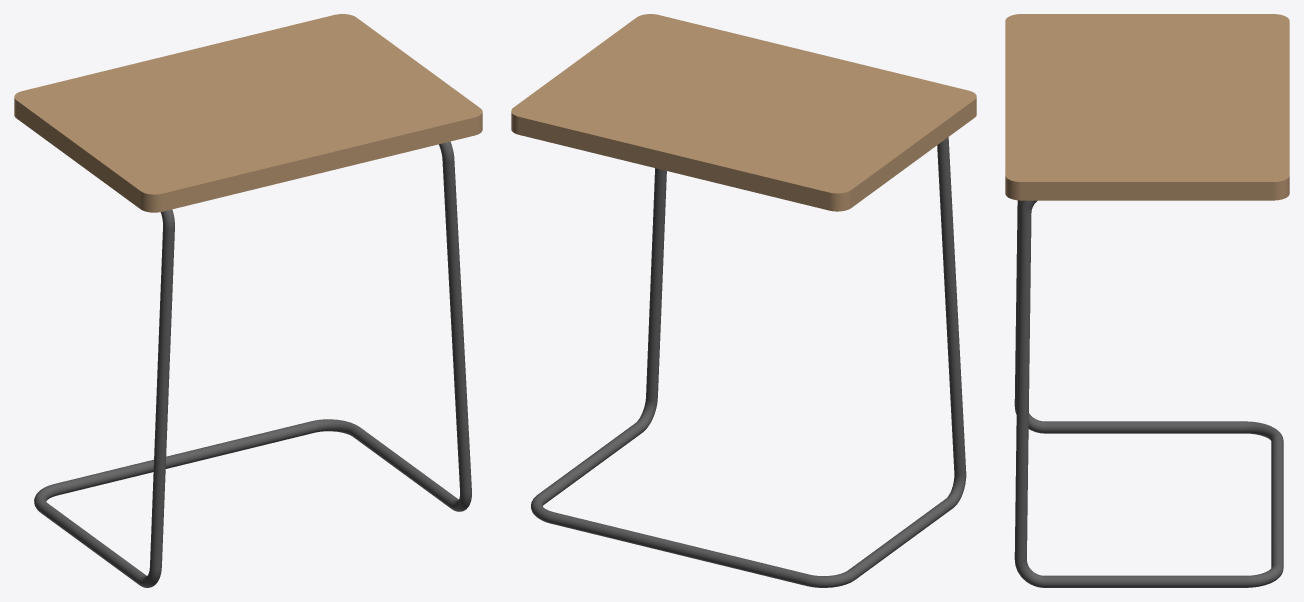
Rendered from 491_サイドテーブル.glb.
The picture shows the model from 3 angles, left to right: view 1: azimuth 30°, elevation 25°; view 2: azimuth 150°, elevation 25°; view 3: azimuth 270°, elevation 25°; orthographic projection.
Visible parts, largest first — view 1: Body; view 2: Body; view 3: Body.
Part boxes in pixels (box(x1,y1,x2,y2)): Body: box(14, 14, 482, 587); Body: box(511, 14, 976, 587); Body: box(1005, 14, 1289, 587).
Size of the model in its own units: 0.49 by 0.56 by 0.35.
